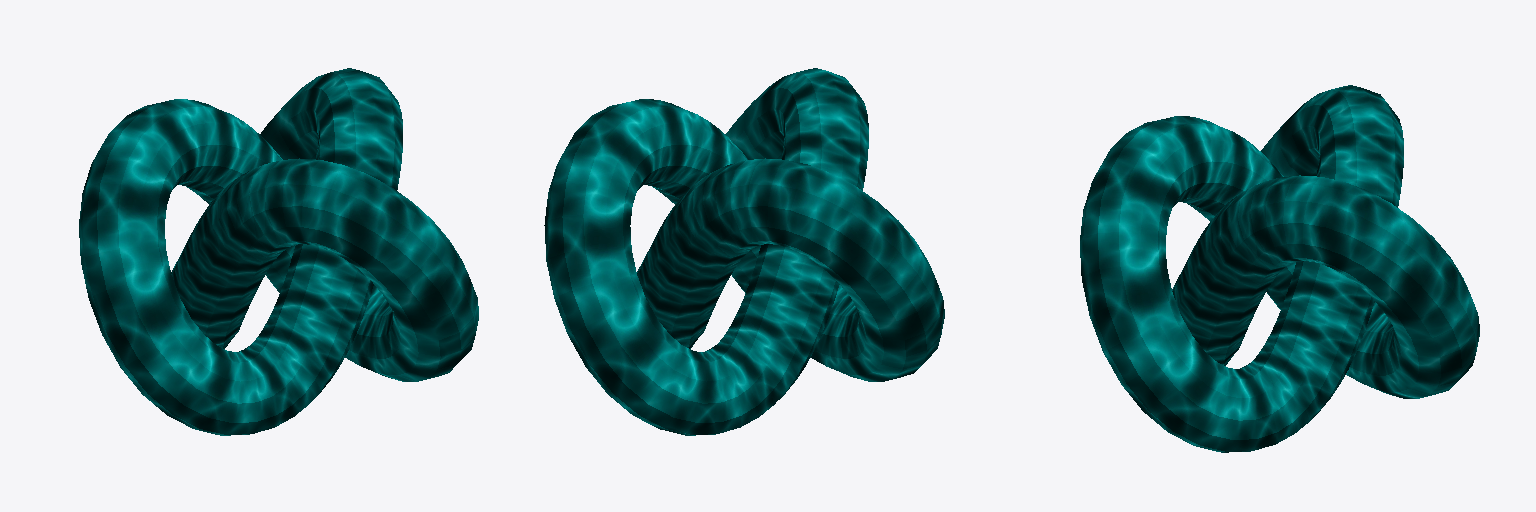
3 views of the same model, side by side, from view 1: azimuth 30°, elevation 25°; view 2: azimuth 150°, elevation 25°; view 3: azimuth 270°, elevation 25° (orthographic).
Size of the model in its own units: 171 by 134 by 181.
Materials: 1 (1 with a texture image).